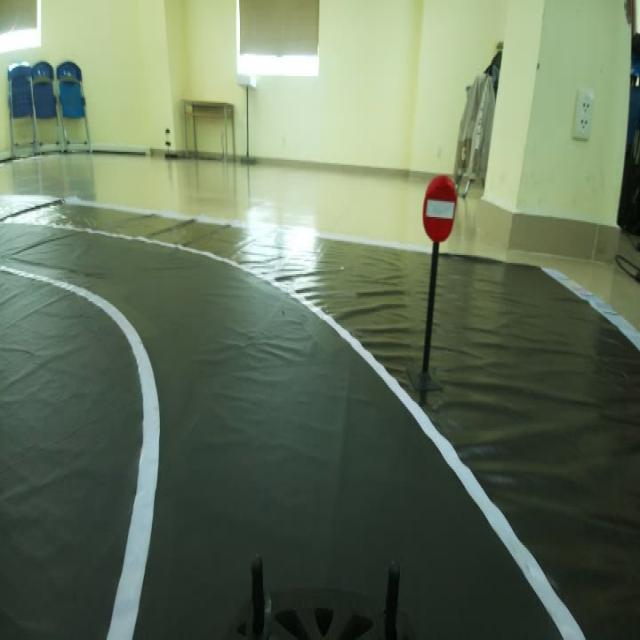no_entry: (410, 167, 468, 250)
